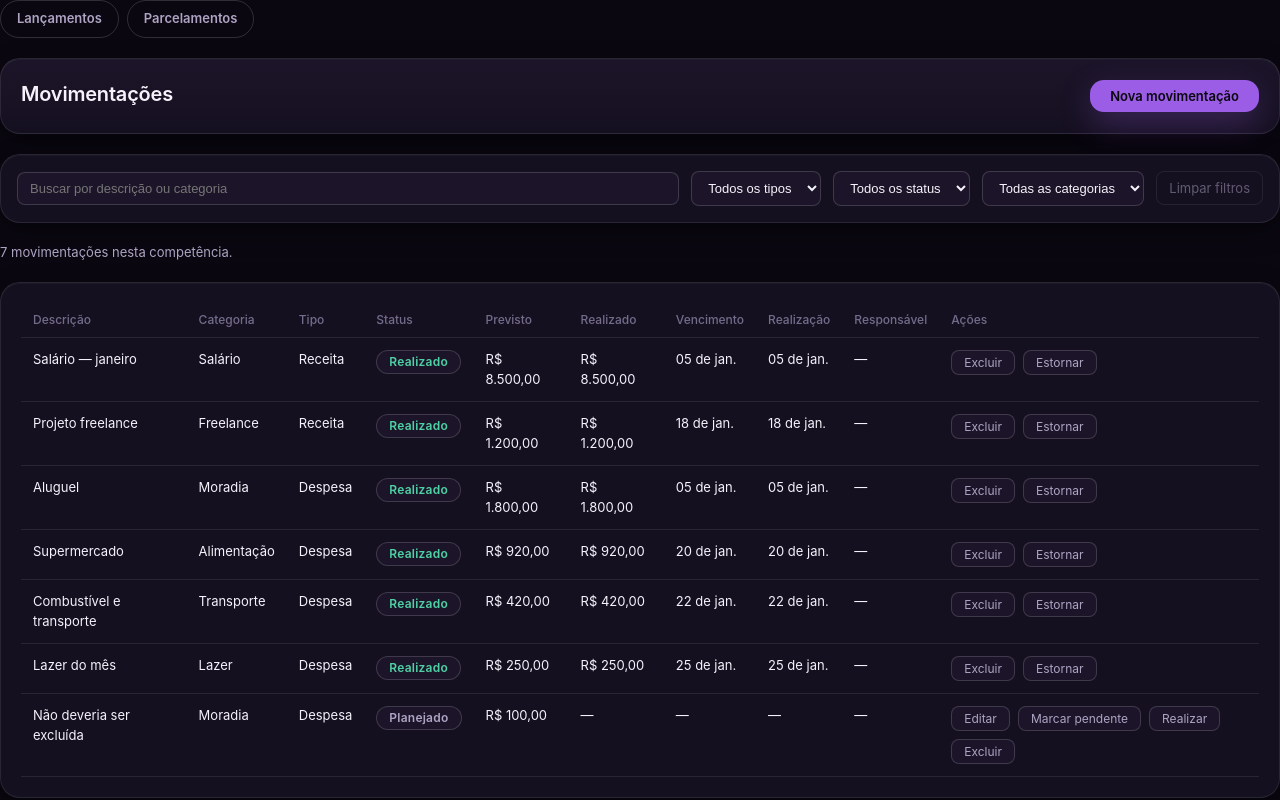
FinancialEntriesPage — exclusão real de lançamentos (Bloco 20) › exclusão em competência fechada é rejeitada, mantém a movimentação e mostra o erro no diálogo
This screenshot has width=1280, height=800.
Click the 7th button "Excluir".
click(983, 752)  # box [951,739,1015,764]
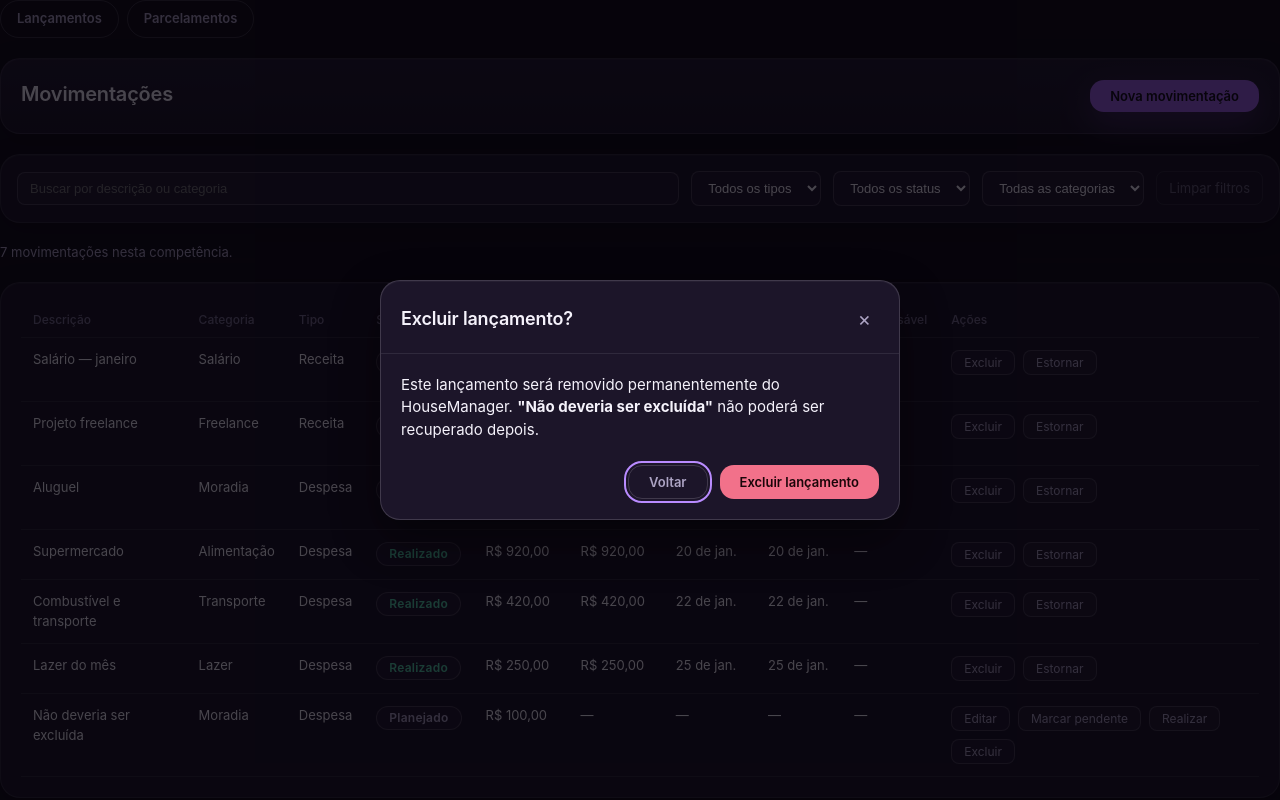
Click the button "Excluir lançamento".
click(799, 482)  # box [720,465,879,499]
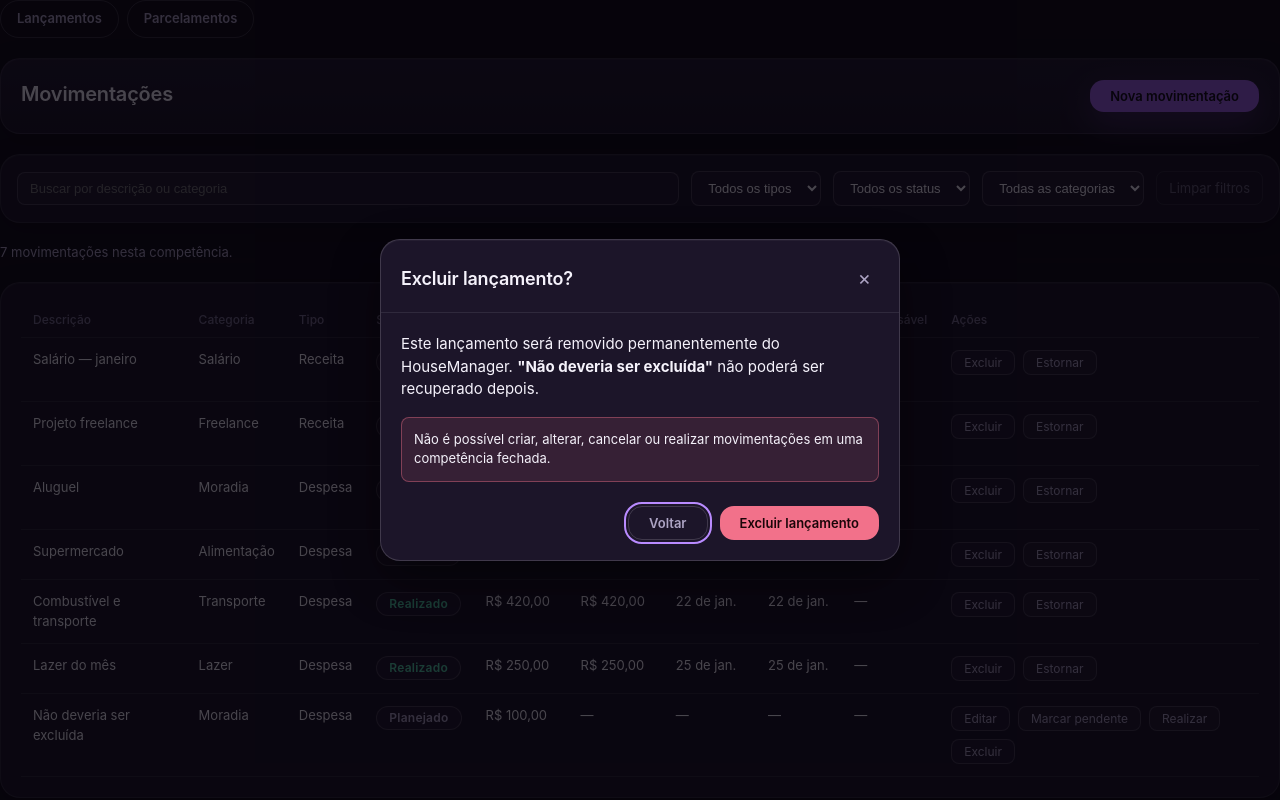
Expected: the text "Não deveria ser excluída" is shown, [33,707,130,742]
Result: the dialog is shown at [380,239,900,561]
Result: the message is shown at [401,417,879,482]
